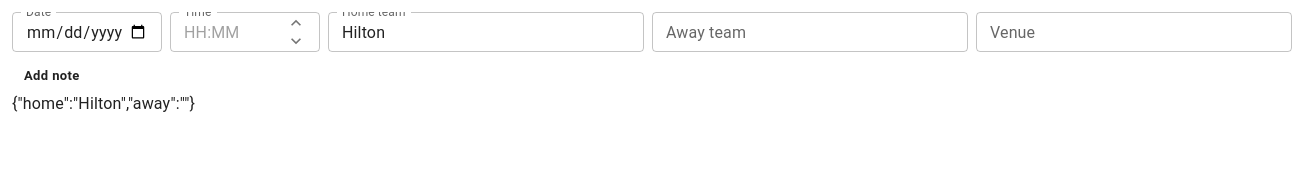
RowEditFields (spec 125) › shows the helper under the second box when the same name is typed on both sides
This screenshot has width=1292, height=172.
Expected: the text "A team cannot play itself" is not shown
In the dropdown named "Away team, row 7": (808, 32) [658,18,959,46], type " hilton "
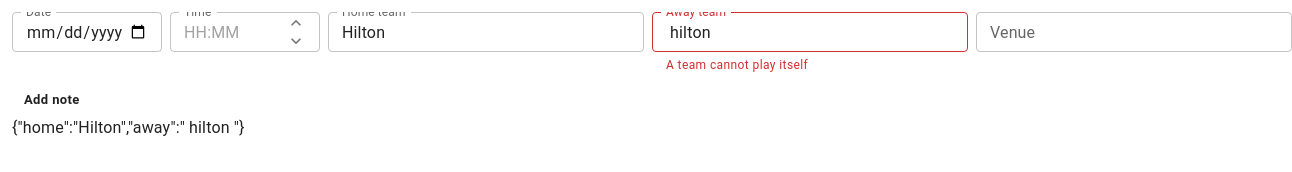
Result: the text "A team cannot play itself" is shown at [666,58,808,72]
